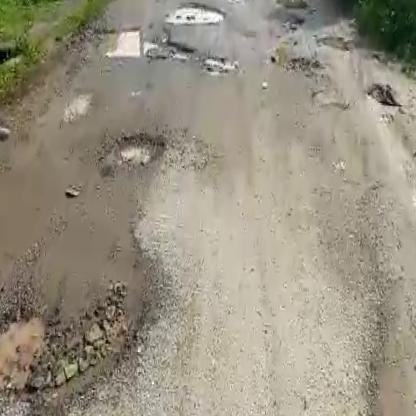pothole: (0, 273, 164, 416), (99, 22, 202, 66), (98, 124, 168, 179), (164, 0, 226, 26), (199, 55, 236, 77)
